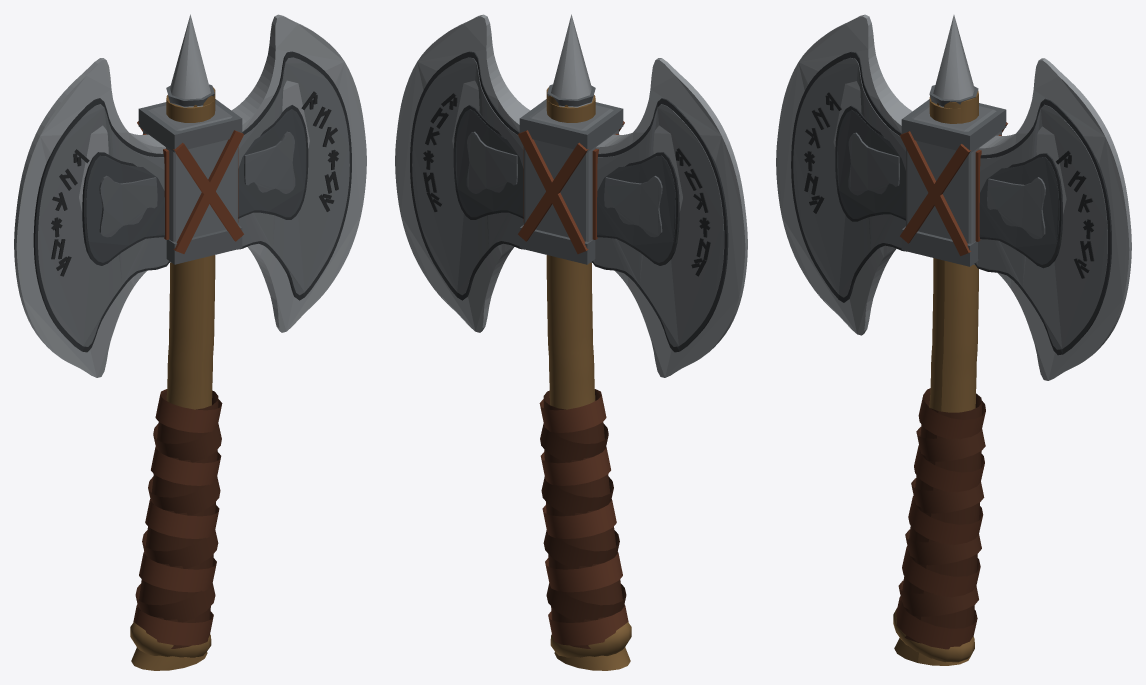
Rendered from 13-axe.glb.
3 renders of one model, left to right at view 1: azimuth 30°, elevation 25°; view 2: azimuth 150°, elevation 25°; view 3: azimuth 330°, elevation 25°, orthographic.
Visible parts, largest first — view 1: RuneAxe; view 2: RuneAxe; view 3: RuneAxe.
Boxes of the visible parts, x1,y1,x2,y2 form: RuneAxe: [14, 14, 366, 670]; RuneAxe: [395, 14, 747, 670]; RuneAxe: [776, 14, 1131, 665].
Bounding box in the file's own units: 0.4968 × 0.8768 × 0.096.
